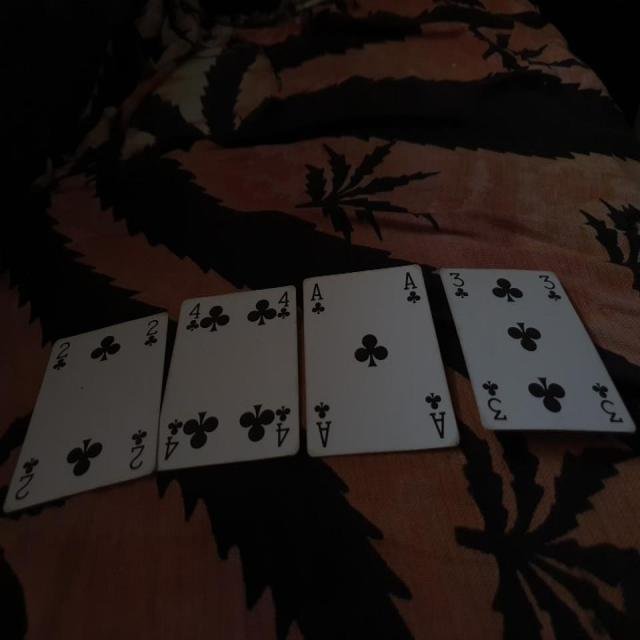2 of clubs: (1, 309, 170, 518)
3 of clubs: (441, 264, 637, 434)
4 of clubs: (159, 284, 301, 470)
ace of clubs: (300, 261, 462, 458)
